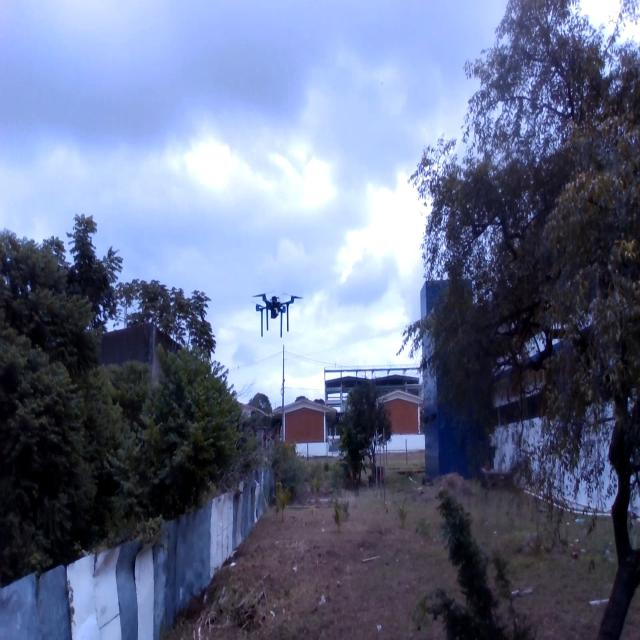-uav-: (244, 283, 306, 342)
